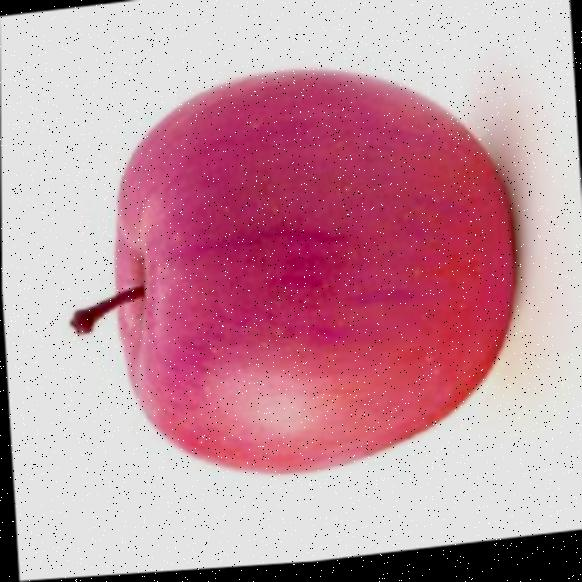HEALTHY: (80, 20, 539, 523)
